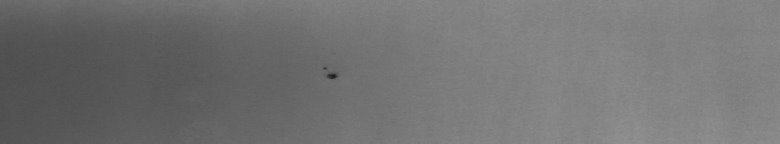fi: (322, 66, 340, 88)
